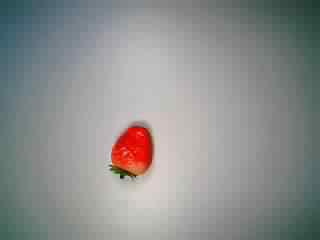strawberry: (98, 117, 164, 179)
